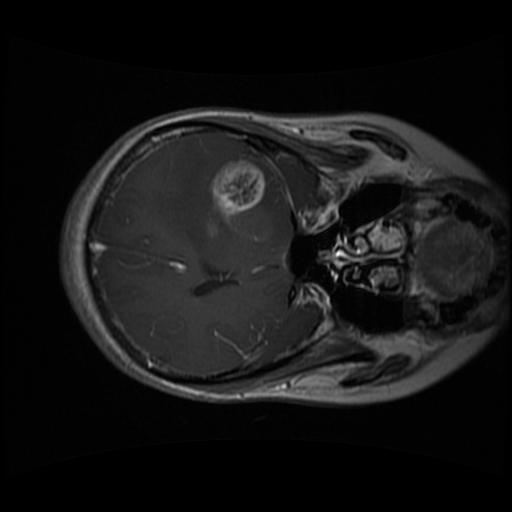glioma: (198, 148, 274, 243)
